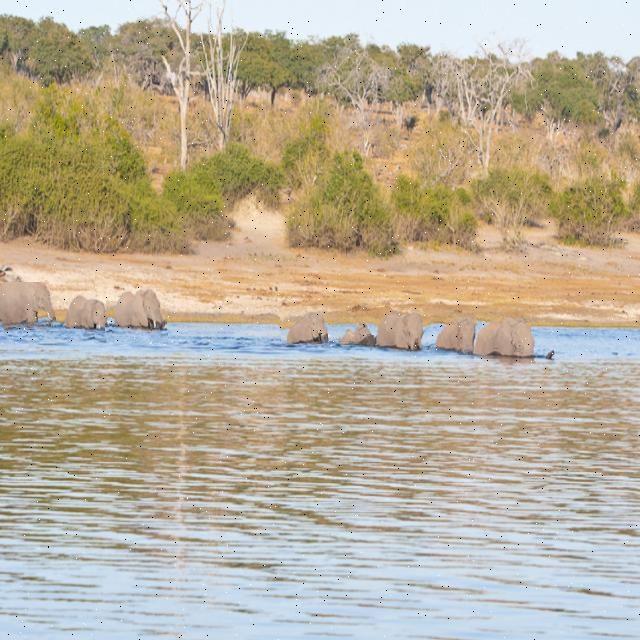elephant: (95, 271, 167, 345), (0, 282, 55, 331), (476, 314, 531, 352), (279, 306, 328, 344), (378, 308, 427, 345), (430, 313, 473, 355), (66, 292, 106, 332), (338, 318, 376, 344)
